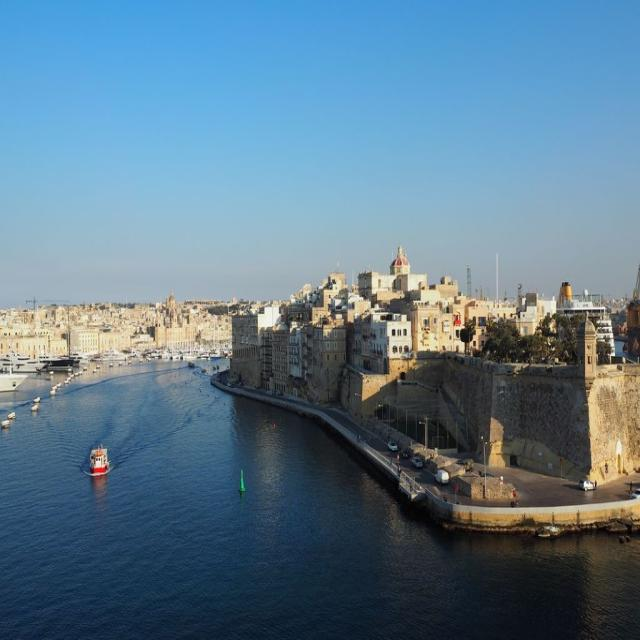Boat: (126, 320, 234, 362), (0, 346, 42, 375), (85, 436, 111, 474), (34, 346, 70, 366), (97, 346, 127, 359), (66, 350, 88, 365), (91, 350, 99, 360), (190, 358, 194, 367), (200, 368, 206, 373), (212, 367, 215, 370), (217, 365, 220, 367)
